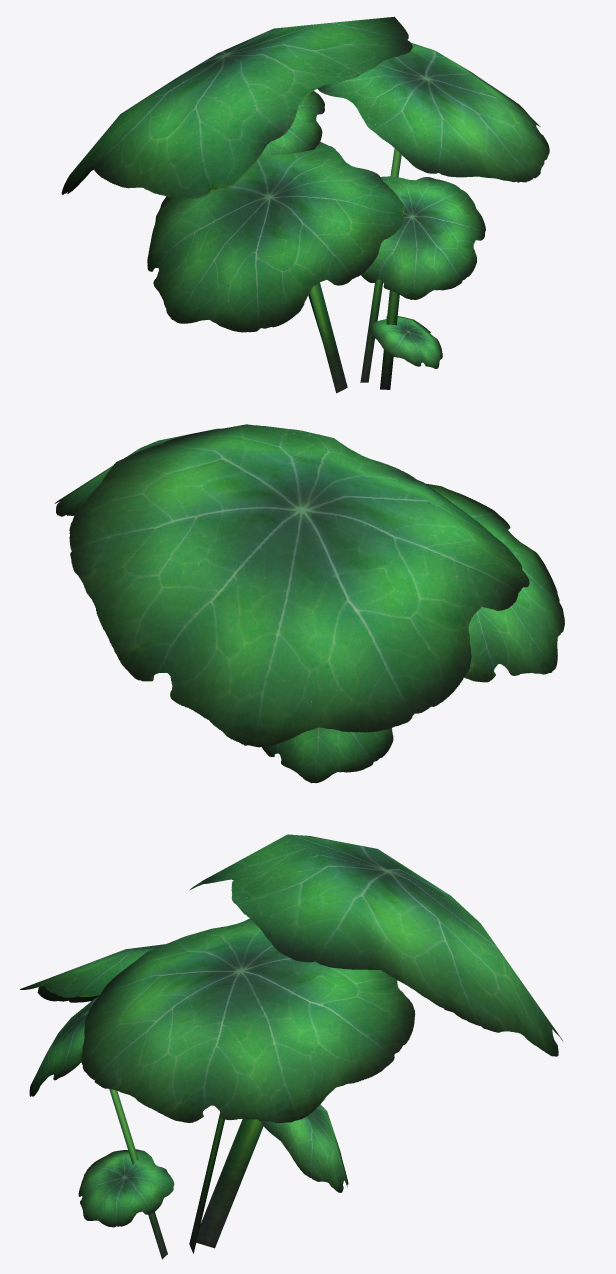
File: leaflarge_lod0.fbx
The picture shows the model from 3 angles, top to bottom: view 1: azimuth 30°, elevation 25°; view 2: azimuth 150°, elevation 25°; view 3: azimuth 270°, elevation 25°; orthographic projection. The views are drawn at different scales.
Visible parts, largest first — view 1: Mesh Object; view 2: Mesh Object; view 3: Mesh Object.
Boxes of the visible parts, left/top/right/bottom form: Mesh Object: left=61, top=16, right=549, bottom=393; Mesh Object: left=54, top=424, right=564, bottom=783; Mesh Object: left=20, top=834, right=562, bottom=1259.
Bounding box in the file's own units: 1.54 × 1.02 × 1.43.
